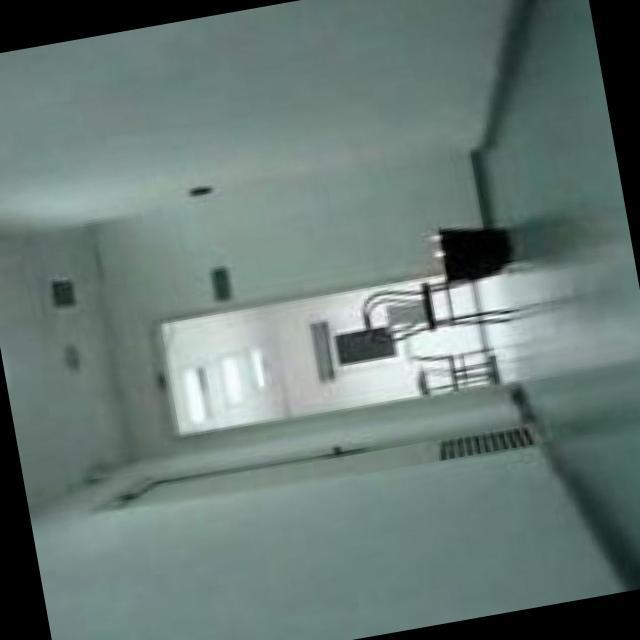Fire: (421, 229, 446, 264)
